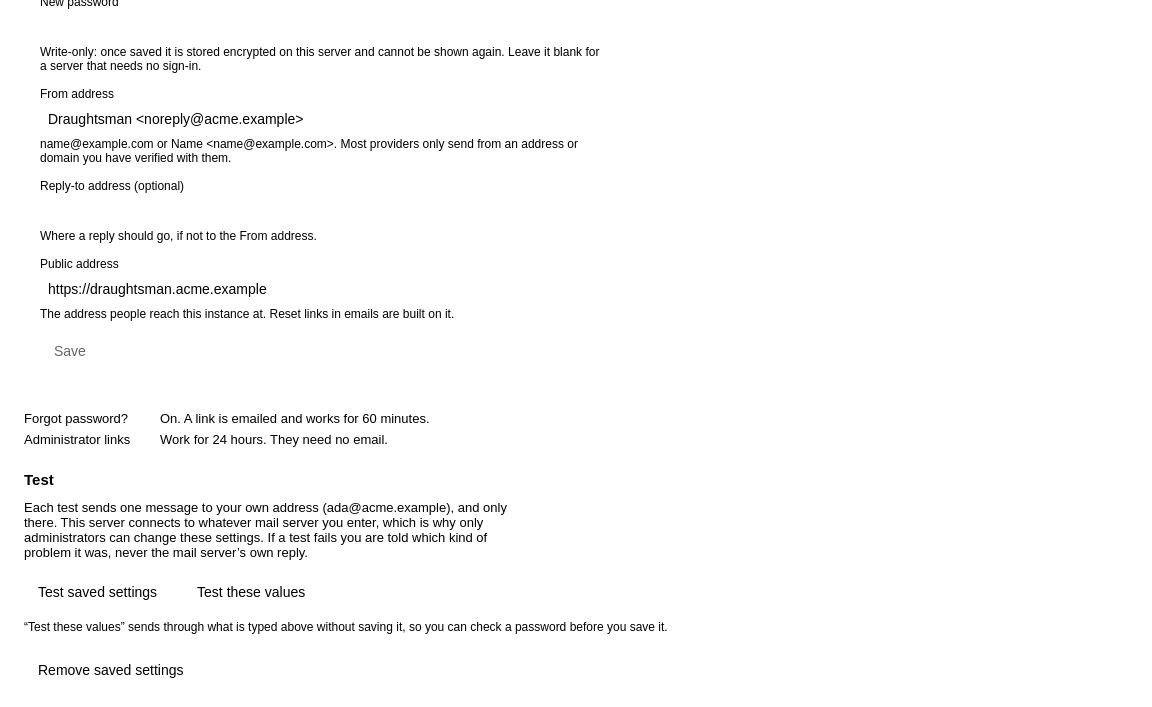
it: EmailPage › remove saved settings › asks first, then removes, and shows the settings as they now are
This screenshot has width=1152, height=707.
(page scrolled)
Click the button "Remove saved settings": (111, 670) [24,654,198,686]
(page scrolled)
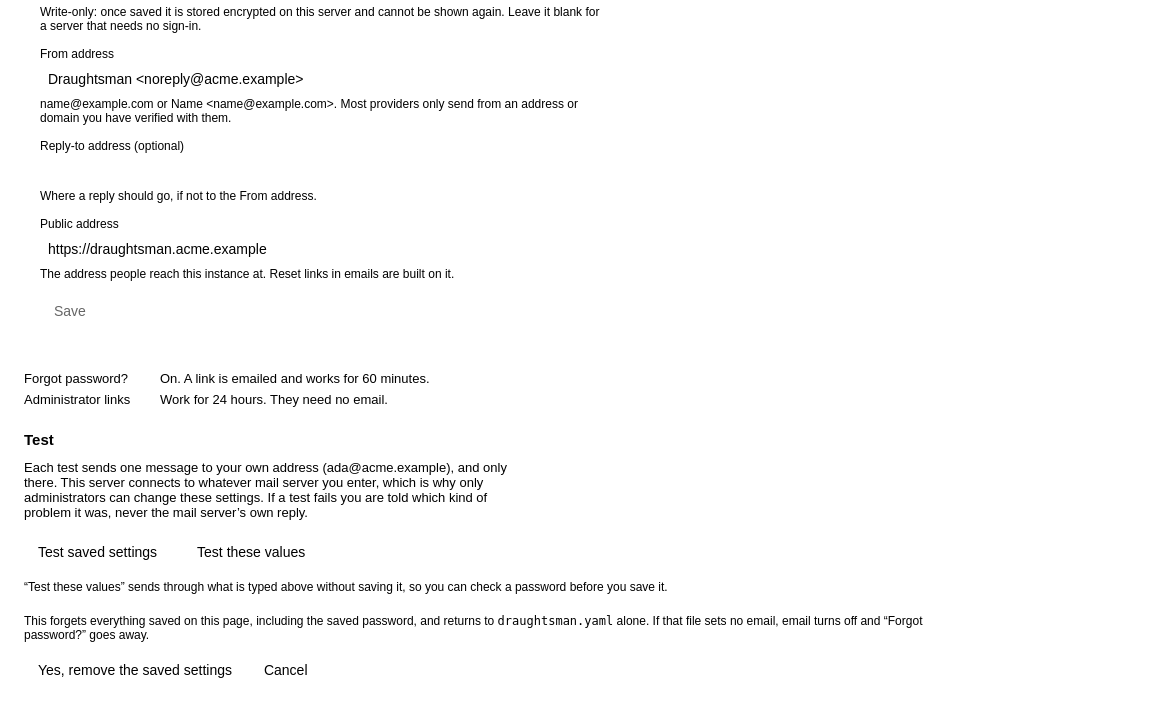
Click the button "Yes, remove the saved settings": (135, 670) [24,654,246,686]
(page scrolled)
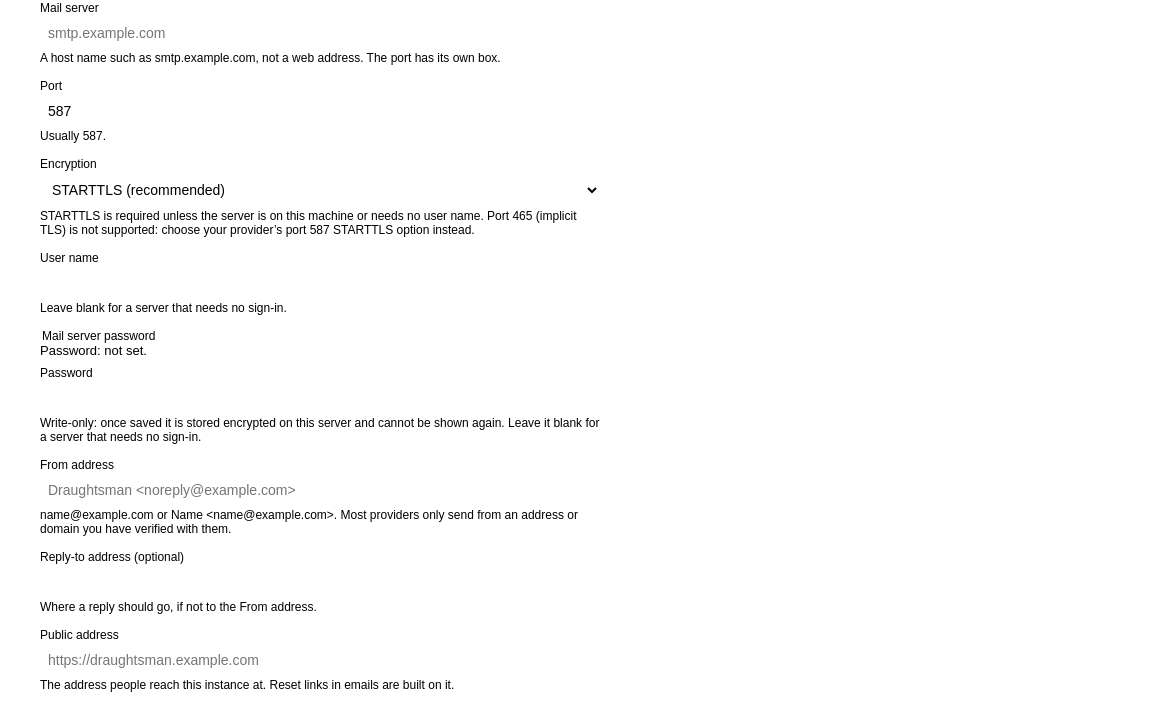
Expected: the field labelled "Mail server" is empty, [40,19,600,47]
Expected: the text with test id "email-password-state" reads "Password: not set.", [40,343,147,358]
